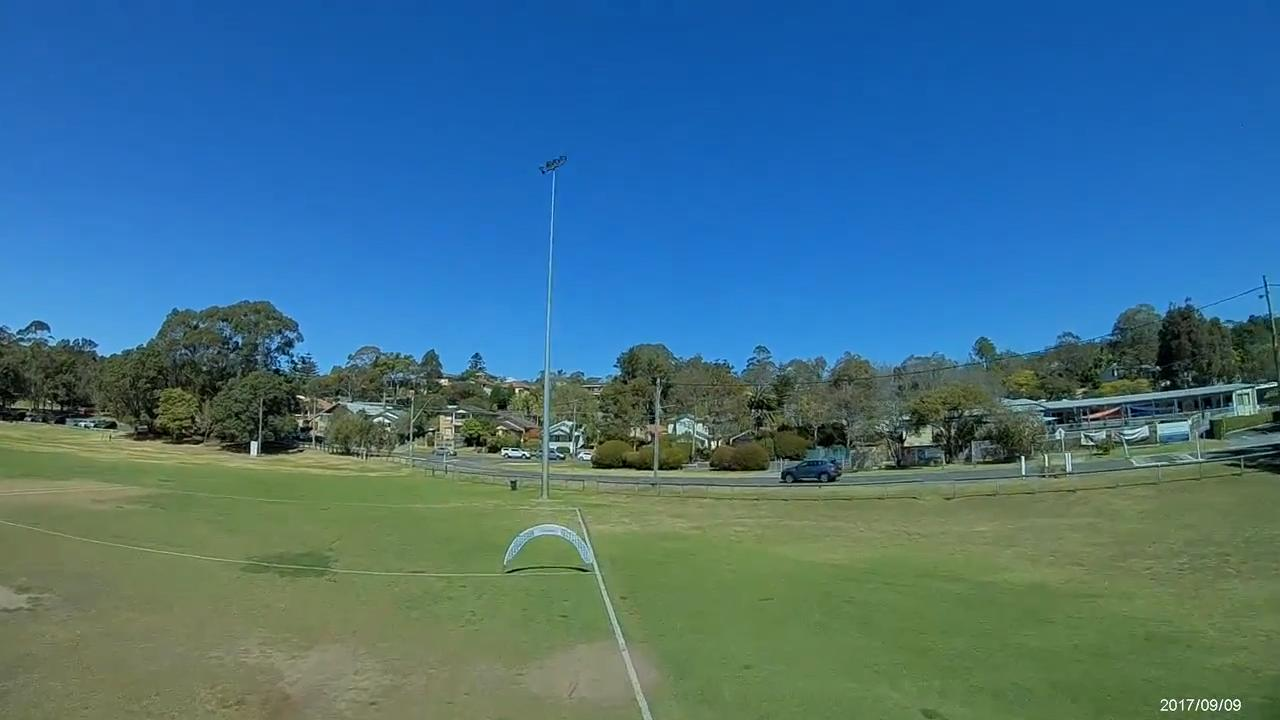gate: (501, 523, 595, 569)
